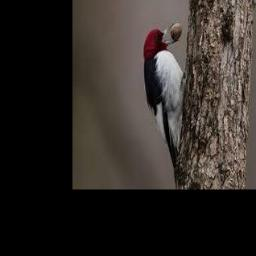Woodpecker: (143, 22, 185, 186)
